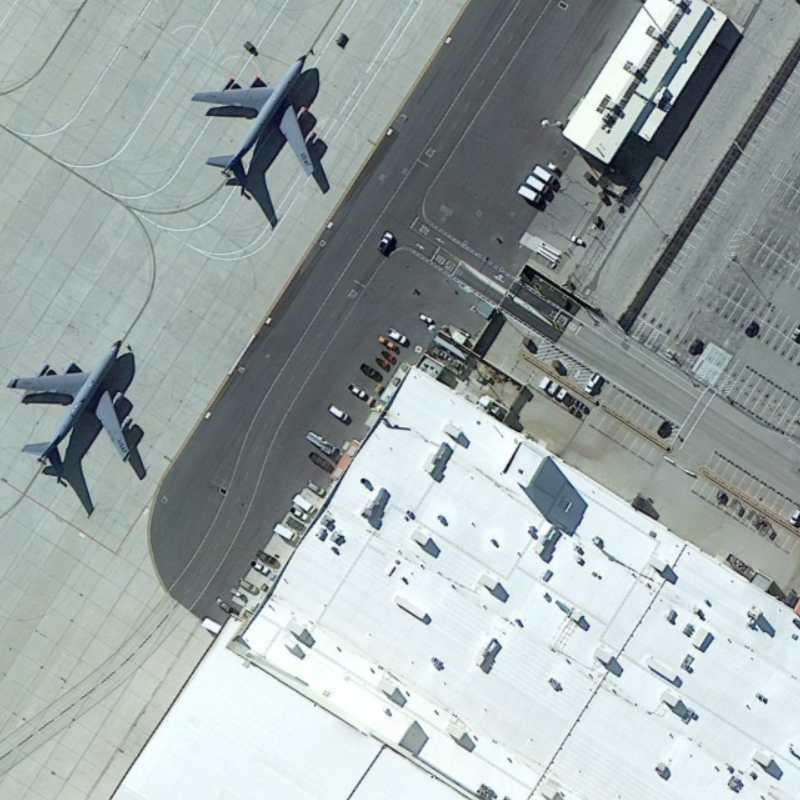A14: (182, 47, 332, 196), (2, 332, 143, 483)
